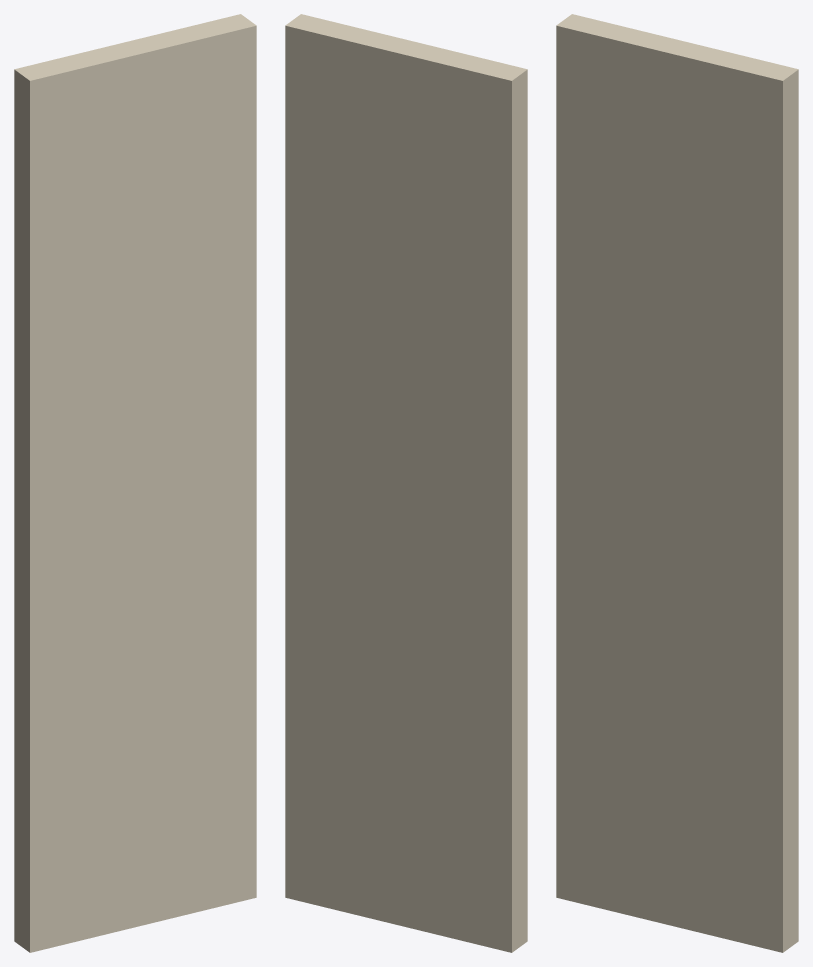
3 renders of one model, left to right at view 1: azimuth 30°, elevation 25°; view 2: azimuth 150°, elevation 25°; view 3: azimuth 330°, elevation 25°, orthographic.
Visible parts, largest first — view 1: A-GF-WALL-017; view 2: A-GF-WALL-017; view 3: A-GF-WALL-017.
Boxes of the visible parts, x1,y1,x2,y2 form: A-GF-WALL-017: [14, 14, 256, 952]; A-GF-WALL-017: [285, 14, 527, 952]; A-GF-WALL-017: [556, 14, 798, 952].
Size of the model in its own units: 0.74 by 2.72 by 0.09.
